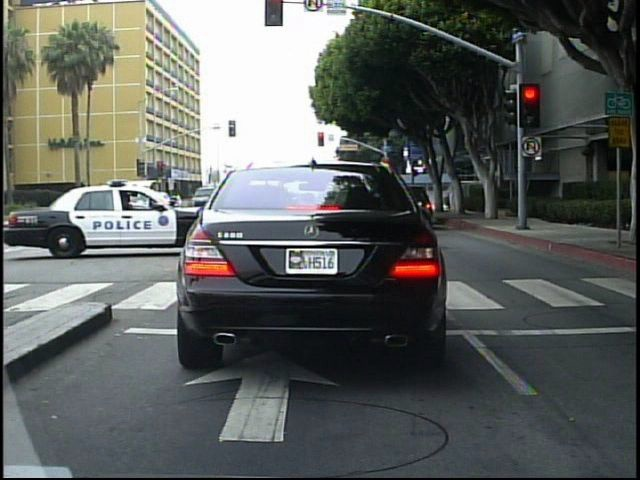person: (446, 181, 456, 216)
